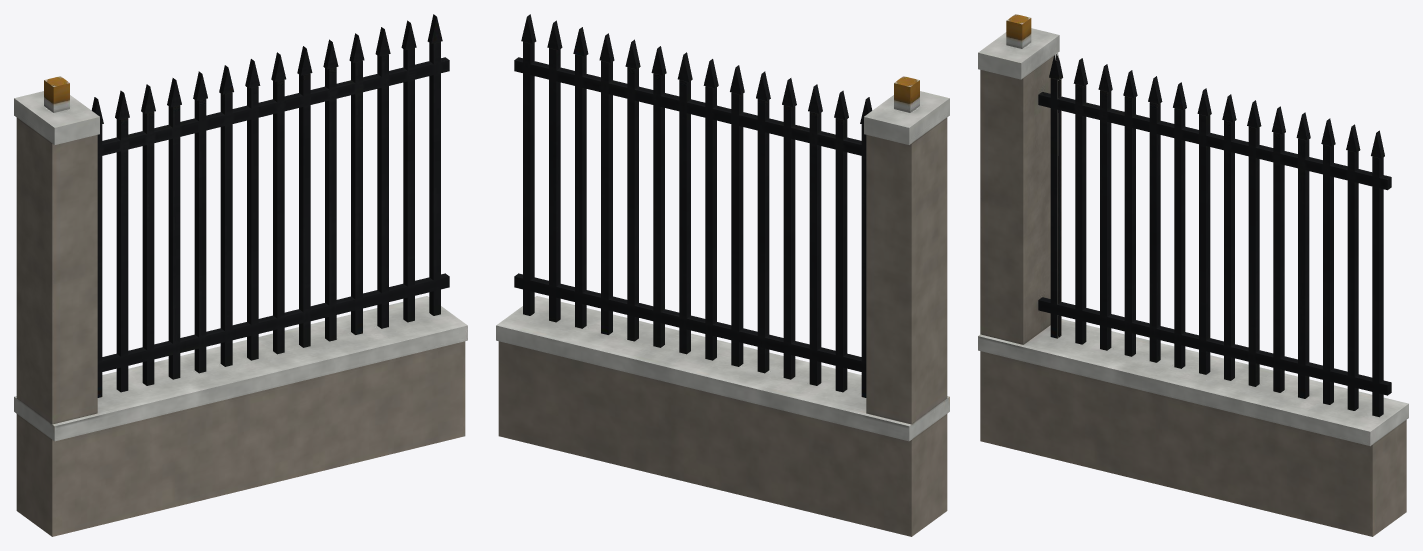
Rendered from iron_fence.glb.
The picture shows the model from 3 angles, left to right: view 1: azimuth 30°, elevation 25°; view 2: azimuth 150°, elevation 25°; view 3: azimuth 330°, elevation 25°; orthographic projection. The views are drawn at different scales.
Visible parts, largest first — view 1: iron_fence; view 2: iron_fence; view 3: iron_fence.
Part boxes in pixels (x1,y1,x2,y2): iron_fence: (14,14,467,536); iron_fence: (496,14,949,536); iron_fence: (978,14,1408,536).
Size of the model in its own units: 2 by 2.02 by 0.34.
Materials: 1 (1 with a texture image).
